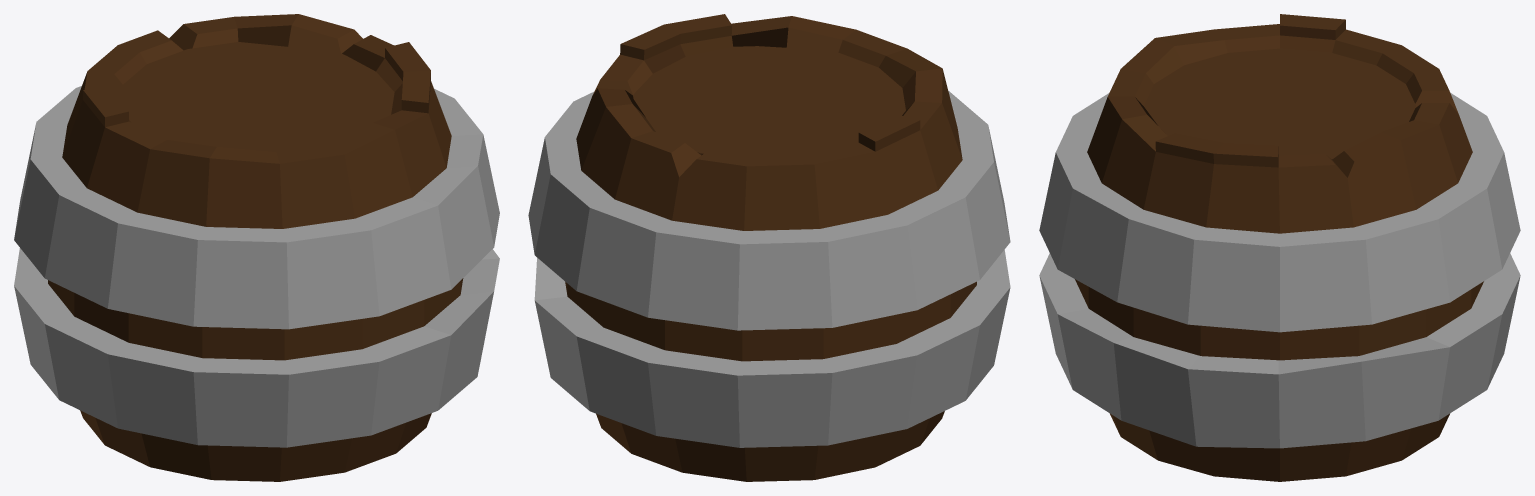
File: barrel.glb
3 views of the same model, side by side, from view 1: azimuth 30°, elevation 25°; view 2: azimuth 150°, elevation 25°; view 3: azimuth 270°, elevation 25° (orthographic).
Parts seen in each view (by area): view 1: Cylinder.002, Cylinder.001; view 2: Cylinder.002, Cylinder.001; view 3: Cylinder.002, Cylinder.001.
Boxes of the visible parts, <box> form: Cylinder.002: <box>14,86,499,447</box>; Cylinder.001: <box>48,14,463,481</box>; Cylinder.002: <box>528,91,1010,447</box>; Cylinder.001: <box>565,14,976,481</box>; Cylinder.002: <box>1039,93,1520,448</box>; Cylinder.001: <box>1075,14,1483,481</box>.
Size of the model in its own units: 2.79 by 2.08 by 2.79.
